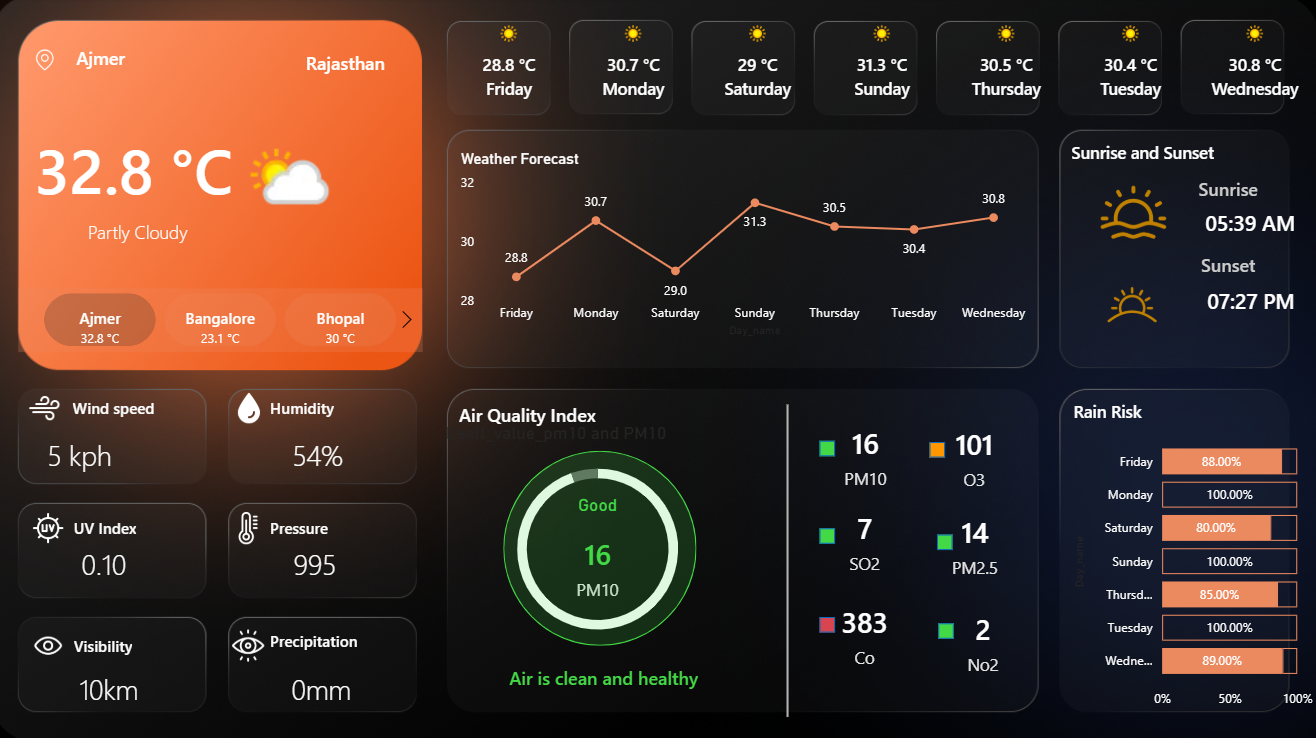

What the dashboard file says about the page in this screenshot:
{"tool":"powerbi","page":{"name":"Page 1","canvas":[1280,720],"ordinal":0},"visuals":[{"type":"advancedSlicerVisual","fields":{"Values":["Location.location.name"]},"box":[25,281.7,390,61.7],"z":0},{"type":"card","fields":{"Values":["Min(current.current.condition.text)"]},"box":[13.3,208.3,255,40],"z":1000},{"type":"card","fields":{"Values":["Min(current.location.name)"]},"box":[29,41,152,39.8],"z":2000},{"type":"card","fields":{"Values":["Min(current.location.region)"]},"box":[265,46.7,151.7,38.3],"z":3000},{"type":"shape","box":[33.8,117,211.1,106.2],"z":4000},{"type":"image","box":[33.8,45.8,33.8,30.2],"z":5000},{"type":"cardVisual","fields":{"Data":["Min(current.current.condition.icon)"]},"box":[222,117,127.9,106.2],"z":6000},{"type":"image","box":[222,376.4,51.9,41],"z":7000},{"type":"shape","box":[265.4,376.4,130.3,41],"z":8000},{"type":"shape","box":[74.8,376.4,130.3,41],"z":9000},{"type":"image","box":[25.3,376.4,50.7,41],"z":10000},{"type":"image","box":[33.8,487.4,41,50.7],"z":11000},{"type":"shape","box":[76,492.2,130.3,41],"z":12000},{"type":"shape","box":[265.4,492.2,130.3,41],"z":13000},{"type":"shape","box":[76,605.6,130.3,41],"z":14000},{"type":"shape","box":[265.4,600.8,130.3,41],"z":15000},{"type":"image","box":[222,492.2,51,41],"z":16000},{"type":"image","box":[33.8,600.8,41,50.7],"z":17000},{"type":"image","box":[226.8,600.8,41,50.7],"z":18000},{"type":"card","fields":{"Values":["measure.windspeed"]},"box":[29,415,111,56.7],"z":19000},{"type":"card","fields":{"Values":["measure.Humidity"]},"box":[267.8,416.2,92.9,54.3],"z":20000},{"type":"card","fields":{"Values":["Sum(current.current.pressure_mb)"]},"box":[248.5,521.2,126.7,54.3],"z":21000},{"type":"card","fields":{"Values":["Sum(current.current.uv)"]},"box":[29,521.2,158,54.3],"z":22000},{"type":"card","fields":{"Values":["measure.visiblity"]},"box":[33.8,641.8,158,54.3],"z":23000},{"type":"card","fields":{"Values":["measure.precipitation"]},"box":[260.2,642,114.8,54.5],"z":24000},{"type":"advancedSlicerVisual","fields":{"Values":["Forecast in a days.Day_Formated"]},"box":[437.9,14.5,842.1,102.5],"z":25000},{"type":"shape","box":[1038.7,129.1,154.4,41],"z":26000},{"type":"shape","box":[1116,201.5,144.8,42.2],"z":27000},{"type":"shape","box":[1116,275.1,144.8,49.5],"z":28000},{"type":"shape","box":[1120.8,170.1,144.8,38.6],"z":29000},{"type":"shape","box":[1120.8,243.7,144.8,38.6],"z":30000},{"type":"image","box":[1050,260,101.7,73.3],"z":31000},{"type":"image","box":[1058.3,171.7,86.7,73.3],"z":32000},{"type":"lineChart","title":"Weather Forecast","fields":{"Y":["Sum(Forecast_days.forecast.forecastday.day.avgtemp_c)"],"Category":["Forecast_days.Day_name"]},"box":[447.6,147.2,561,185.8],"z":33000},{"type":"hundredPercentStackedBarChart","title":"Rain Risk","fields":{"Y":["Sum(Forecast_days.forecast.forecastday.day.daily_chance_of_rain)","measure.left_value_rain"],"Category":["Forecast_days.Day_name"]},"box":[1038.8,389,241.2,307.6],"z":34000},{"type":"shape","box":[447.8,389,208.1,42.2],"z":35000},{"type":"card","fields":{"Values":["Sum(current.current.air_quality.co)"]},"box":[799.1,577.4,87.4,75.4],"z":36000},{"type":"card","fields":{"Values":["Sum(current.current.air_quality.no2)"]},"box":[913.3,585,86.7,75],"z":37000},{"type":"card","fields":{"Values":["Sum(current.current.air_quality.pm10)"]},"box":[799.1,405.6,89,75.4],"z":38000},{"type":"card","fields":{"Values":["Sum(current.current.air_quality.o3)"]},"box":[905,406.7,86.7,75],"z":39000},{"type":"card","fields":{"Values":["Sum(current.current.air_quality.so2)"]},"box":[799.1,487,87.4,75.4],"z":40000},{"type":"card","fields":{"Values":["Sum(current.current.air_quality.pm2_5)"]},"box":[904.6,491.5,88,75],"z":41000},{"type":"shape","box":[798.3,428.3,15,15],"z":42000},{"type":"shape","box":[905,430,15,15],"z":43000},{"type":"shape","box":[798.3,513.3,15,15],"z":44000},{"type":"shape","box":[798.3,598.3,15,15],"z":45000},{"type":"shape","box":[911.7,518.3,15,15],"z":46000},{"type":"shape","box":[913.3,605,15,15],"z":47000},{"type":"shape","box":[753.3,393.3,30,301.7],"z":48000},{"type":"card","fields":{"Values":["Sum(current.current.air_quality.pm10)"]},"box":[530,480,110,120],"z":49000},{"type":"donutChart","fields":{"Y":["measure.Leaft_value_pm10","Sum(current.current.air_quality.pm10)"]},"box":[433.3,410,303.3,225],"z":50000},{"type":"shape","box":[493.3,438.3,186.7,188.3],"z":51000},{"type":"shape","box":[426.7,641.7,326.7,55],"z":52000}]}

Visuals, with their boxes in screenshot pixels (x1, y1, x2, y2), scaled from the page's 1280x720 canvas onto the 1316x738 screenshot:
advancedSlicerVisual - Location.location.name: (26,289,427,352)
card - Min(current.current.condition.text): (14,214,276,255)
card - Min(current.location.name): (30,42,186,83)
card - Min(current.location.region): (272,48,428,87)
shape: (35,120,252,229)
image: (35,47,70,78)
cardVisual - Min(current.current.condition.icon): (228,120,360,229)
image: (228,386,282,428)
shape: (273,386,407,428)
shape: (77,386,211,428)
image: (26,386,78,428)
image: (35,500,77,552)
shape: (78,505,212,547)
shape: (273,505,407,547)
shape: (78,621,212,663)
shape: (273,616,407,658)
image: (228,505,281,547)
image: (35,616,77,668)
image: (233,616,275,668)
card - measure.windspeed: (30,425,144,483)
card - measure.Humidity: (275,427,371,482)
card - Sum(current.current.pressure_mb): (255,534,386,590)
card - Sum(current.current.uv): (30,534,192,590)
card - measure.visiblity: (35,658,197,714)
card - measure.precipitation: (268,658,386,714)
advancedSlicerVisual - Forecast in a days.Day_Formated: (450,15,1315,120)
shape: (1068,132,1227,174)
shape: (1147,207,1296,250)
shape: (1147,282,1296,333)
shape: (1152,174,1301,214)
shape: (1152,250,1301,289)
image: (1080,266,1184,342)
image: (1088,176,1177,251)
"Weather Forecast" lineChart: (460,151,1037,341)
"Rain Risk" hundredPercentStackedBarChart: (1068,399,1315,714)
shape: (460,399,674,442)
card - Sum(current.current.air_quality.co): (822,592,911,669)
card - Sum(current.current.air_quality.no2): (939,600,1028,676)
card - Sum(current.current.air_quality.pm10): (822,416,913,493)
card - Sum(current.current.air_quality.o3): (930,417,1020,494)
card - Sum(current.current.air_quality.so2): (822,499,911,576)
card - Sum(current.current.air_quality.pm2_5): (930,504,1021,581)
shape: (821,439,836,454)
shape: (930,441,946,456)
shape: (821,526,836,542)
shape: (821,613,836,629)
shape: (937,531,953,547)
shape: (939,620,954,636)
shape: (774,403,805,712)
card - Sum(current.current.air_quality.pm10): (545,492,658,615)
donutChart - measure.Leaft_value_pm10 x Sum(current.current.air_quality.pm10): (445,420,757,651)
shape: (507,449,699,642)
shape: (439,658,775,714)
